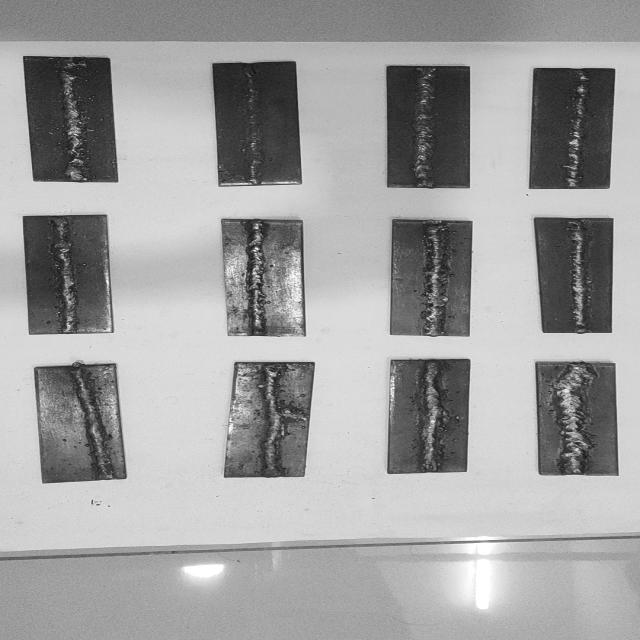Bad Weld: (553, 365, 594, 473), (61, 59, 86, 181), (262, 366, 284, 477), (422, 362, 442, 470), (572, 221, 589, 332), (248, 64, 261, 184)
Defect: (550, 363, 598, 474), (258, 404, 312, 424), (418, 407, 453, 430), (58, 64, 90, 78), (58, 150, 90, 164), (568, 225, 590, 239), (245, 150, 265, 163), (243, 80, 265, 91)
Good Weld: (72, 369, 115, 478), (565, 70, 588, 188), (53, 218, 76, 332), (424, 223, 447, 335), (416, 68, 434, 187), (248, 220, 265, 334)
